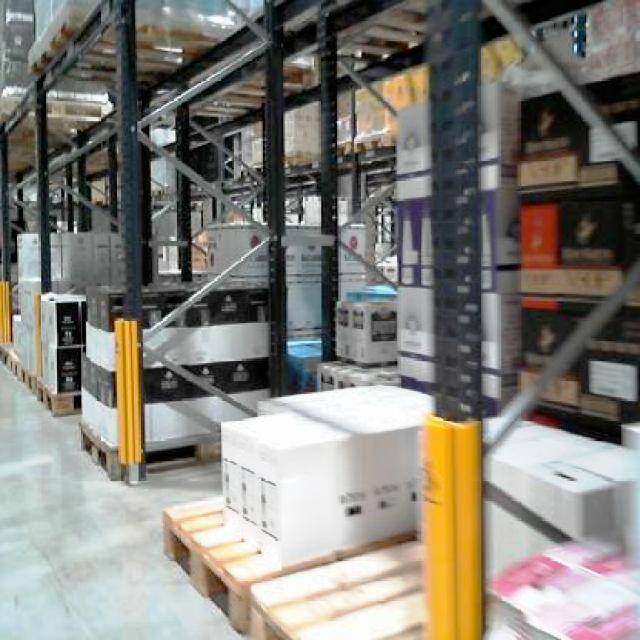ground: (0, 335, 322, 638)
pallet: (160, 383, 477, 638), (484, 23, 640, 434), (77, 282, 274, 483), (160, 492, 429, 638), (246, 534, 429, 638), (478, 538, 638, 638), (0, 278, 85, 417)
